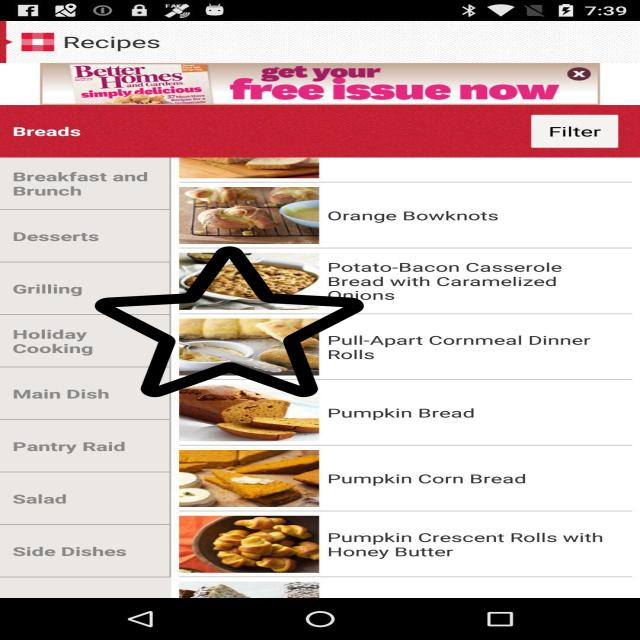forced continuity: (95, 243, 364, 400)
